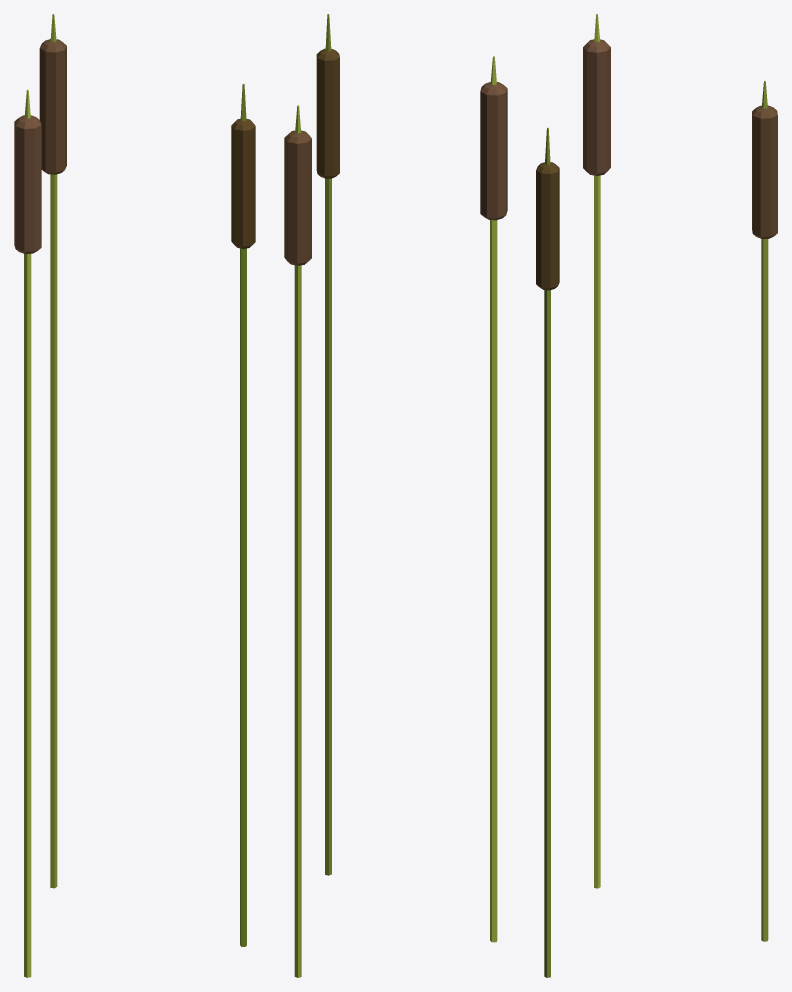
Rendered from NHP_Reedmace_LP_A1_H140cm_02.fbx.
3 views of the same model, side by side, from view 1: azimuth 30°, elevation 25°; view 2: azimuth 150°, elevation 25°; view 3: azimuth 270°, elevation 25° (orthographic).
Visible parts, largest first — view 1: NHP_Reedmace_LP_A1_H140cm_02_LOD0; view 2: NHP_Reedmace_LP_A1_H140cm_02_LOD0; view 3: NHP_Reedmace_LP_A1_H140cm_02_LOD0.
Part boxes in pixels (left/top/right/bottom): NHP_Reedmace_LP_A1_H140cm_02_LOD0: left=14, top=14, right=255, bottom=977; NHP_Reedmace_LP_A1_H140cm_02_LOD0: left=284, top=14, right=507, bottom=977; NHP_Reedmace_LP_A1_H140cm_02_LOD0: left=536, top=14, right=777, bottom=977.
Size of what is drawn, in the model's own units: 0.3468 by 1.38 by 0.3453.
